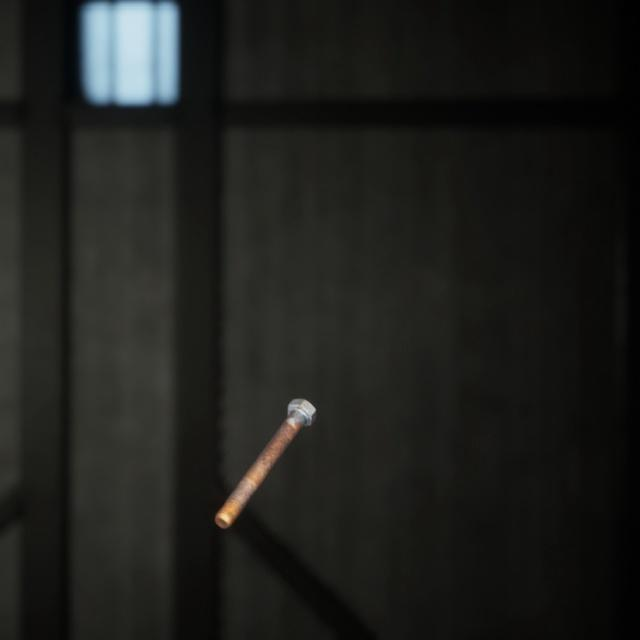bolt: (210, 373, 320, 510)
